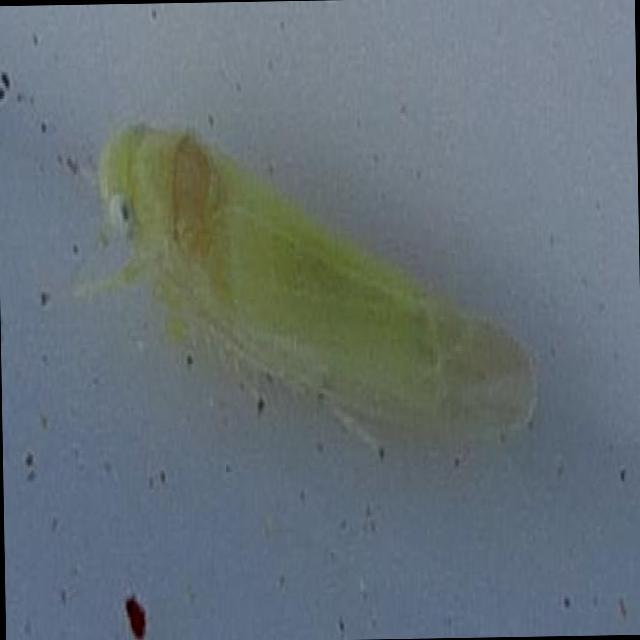green leaf hopper: (99, 125, 534, 445)
